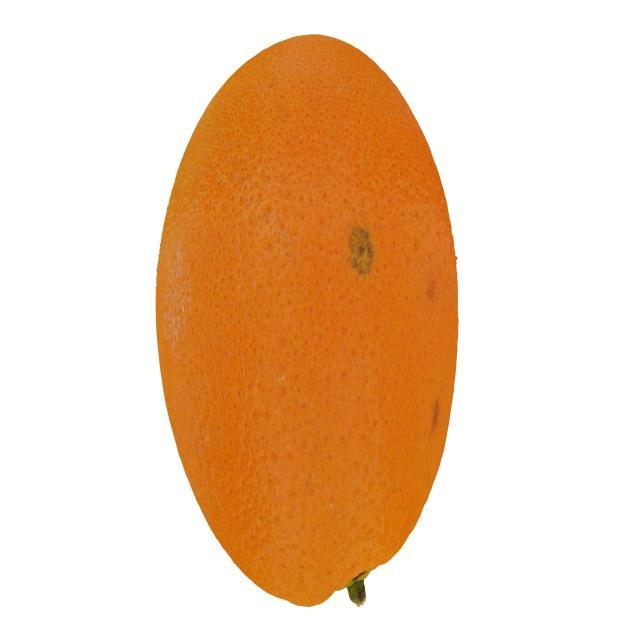Orange: (154, 32, 460, 608)
